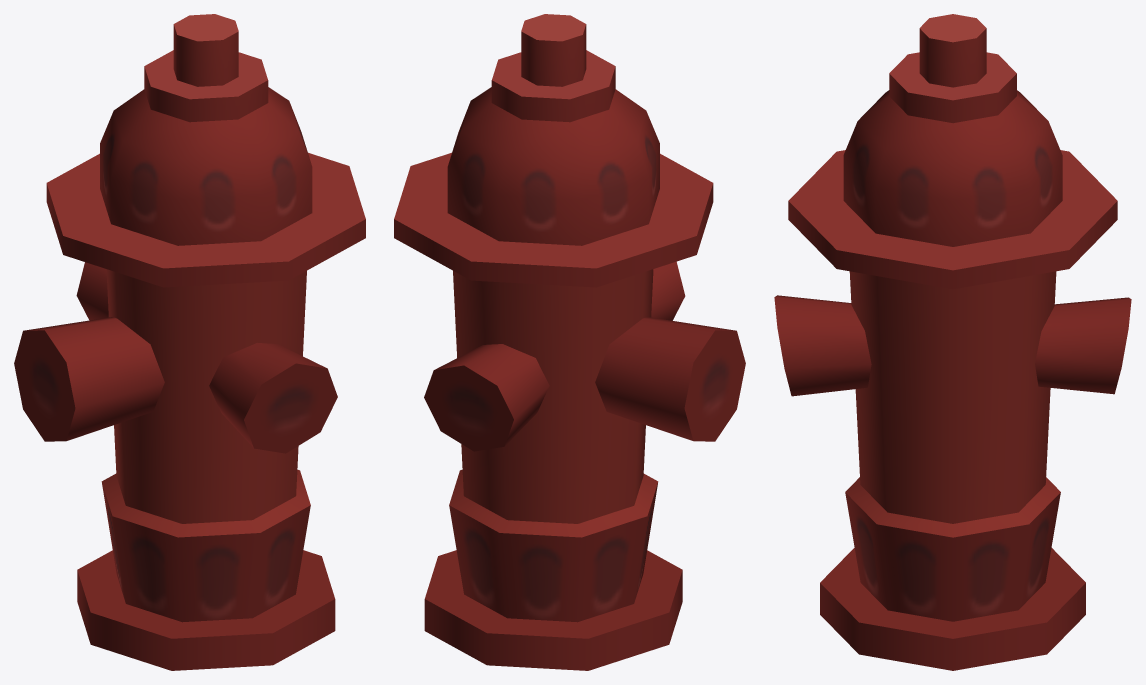
The model's file is Hydrant.fbx.
3 renders of one model, left to right at view 1: azimuth 30°, elevation 25°; view 2: azimuth 150°, elevation 25°; view 3: azimuth 270°, elevation 25°, orthographic.
Parts seen in each view (by area): view 1: Hydrant; view 2: Hydrant; view 3: Hydrant.
Part boxes in pixels (x1,y1,x2,y2): Hydrant: (14, 14, 365, 670); Hydrant: (394, 14, 745, 670); Hydrant: (774, 14, 1131, 670).
Size of the model in its own units: 57.72 by 107 by 58.82.
